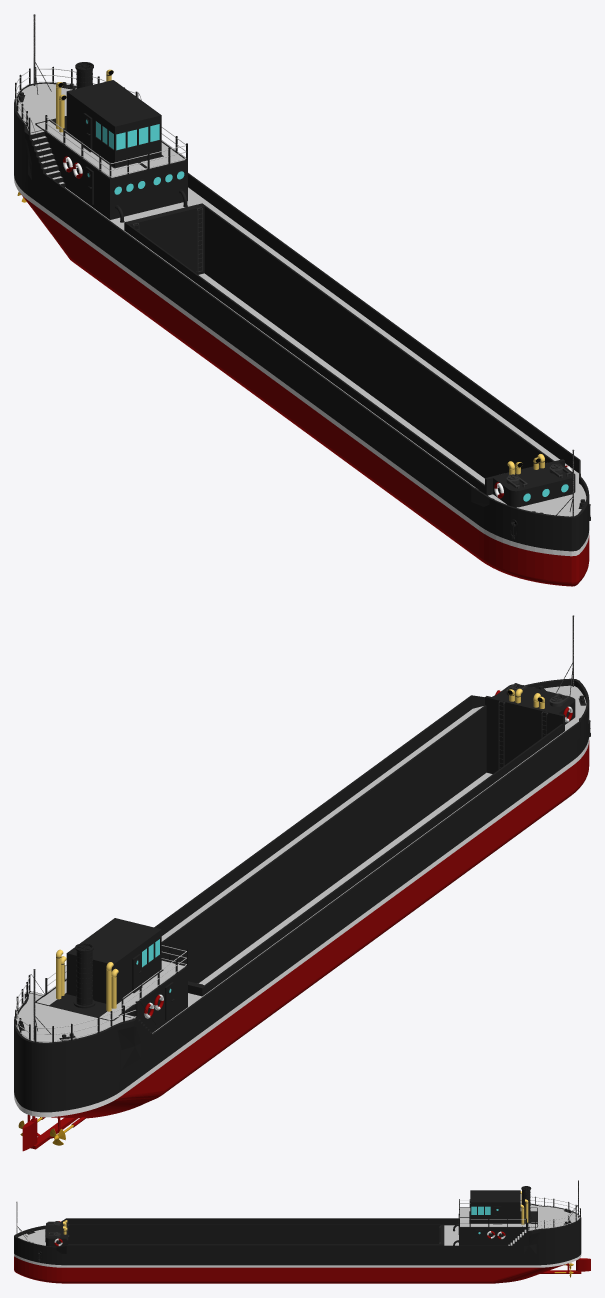
Rendered from RiverBargeAmar.obj.
The picture shows the model from 3 angles, top to bottom: view 1: azimuth 30°, elevation 25°; view 2: azimuth 150°, elevation 25°; view 3: azimuth 270°, elevation 25°; orthographic projection. The views are drawn at different scales.
Parts seen in each view (by area): view 1: SketchUp.001, SketchUp.003, SketchUp, SketchUp.026, SketchUp.037, SketchUp.002, SketchUp.009, SketchUp.112, SketchUp.106; view 2: SketchUp.001, SketchUp.003, SketchUp, SketchUp.026, SketchUp.002, SketchUp.037, SketchUp.112, SketchUp.009, SketchUp.106, group_34; view 3: SketchUp.001, SketchUp, SketchUp.003, SketchUp.002, SketchUp.026, SketchUp.112, SketchUp.037, SketchUp.060, group_7.
Boxes of the visible parts, x1=… form: SketchUp.001: x1=14, y1=82, x2=589, y2=551; SketchUp.003: x1=124, y1=203, x2=575, y2=507; SketchUp: x1=20, y1=193, x2=589, y2=586; SketchUp.026: x1=66, y1=80, x2=161, y2=167; SketchUp.037: x1=65, y1=187, x2=586, y2=516; SketchUp.002: x1=14, y1=176, x2=589, y2=556; SketchUp.009: x1=199, y1=273, x2=484, y2=484; SketchUp.112: x1=18, y1=83, x2=76, y2=132; SketchUp.106: x1=37, y1=121, x2=146, y2=177; SketchUp.001: x1=14, y1=678, x2=589, y2=1112; SketchUp.003: x1=161, y1=684, x2=575, y2=996; SketchUp: x1=22, y1=740, x2=589, y2=1151; SketchUp.026: x1=66, y1=918, x2=161, y2=1003; SketchUp.002: x1=14, y1=737, x2=589, y2=1117; SketchUp.037: x1=152, y1=685, x2=586, y2=1033; SketchUp.112: x1=17, y1=993, x2=133, y2=1042; SketchUp.009: x1=199, y1=772, x2=492, y2=985; SketchUp.106: x1=99, y1=960, x2=185, y2=1019; group_34: x1=79, y1=945, x2=95, y2=1008; SketchUp.001: x1=14, y1=1203, x2=581, y2=1265; SketchUp: x1=14, y1=1256, x2=590, y2=1283; SketchUp.003: x1=46, y1=1220, x2=444, y2=1246; SketchUp.002: x1=14, y1=1254, x2=581, y2=1267; SketchUp.026: x1=470, y1=1190, x2=520, y2=1223; SketchUp.112: x1=529, y1=1204, x2=579, y2=1230; SketchUp.037: x1=18, y1=1225, x2=458, y2=1245; SketchUp.060: x1=460, y1=1218, x2=537, y2=1227; group_7: x1=520, y1=1188, x2=531, y2=1219.
Size of the model in its own units: 7 by 10.88 by 61.44.
